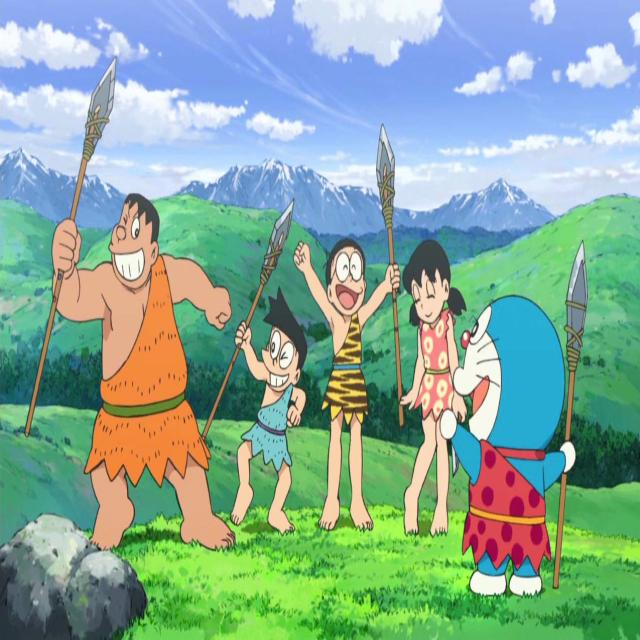jaian: (108, 187, 160, 291)
nobita: (322, 231, 371, 323)
shizuka: (451, 293, 566, 469), (399, 234, 469, 330)
suneo: (260, 288, 308, 404)
